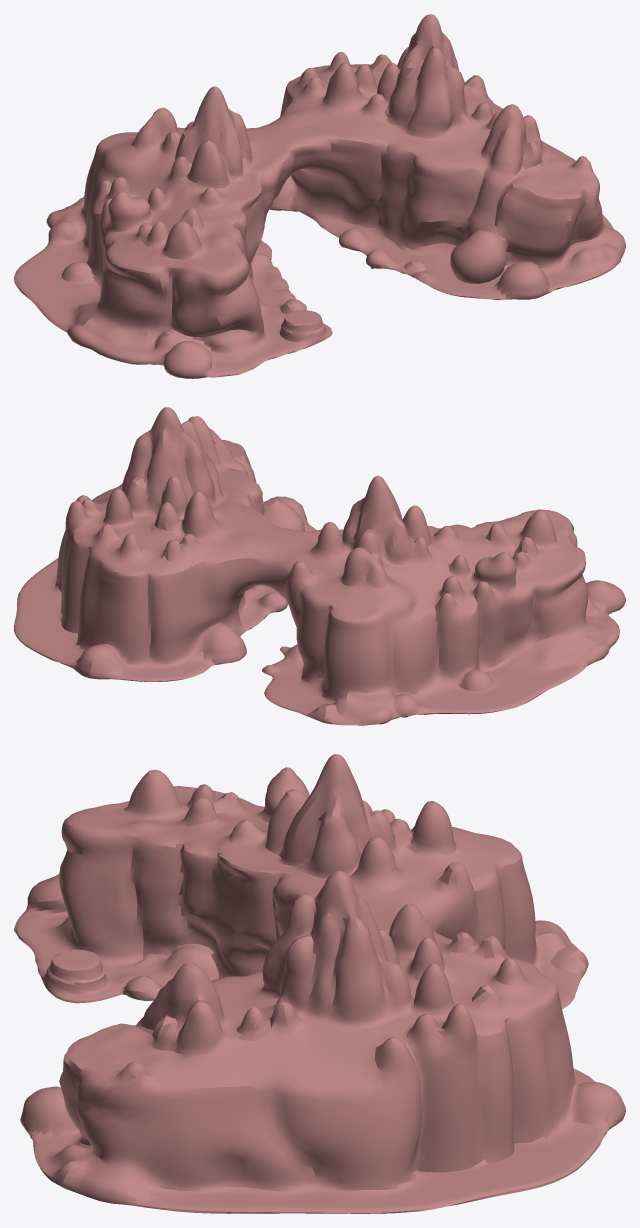
File: Col_海底拱桥.fbx
The picture shows the model from 3 angles, top to bottom: view 1: azimuth 30°, elevation 25°; view 2: azimuth 150°, elevation 25°; view 3: azimuth 270°, elevation 25°; orthographic projection. The views are drawn at different scales.
Visible parts, largest first — view 1: Mesh_Retopo_node_0_001; view 2: Mesh_Retopo_node_0_001; view 3: Mesh_Retopo_node_0_001.
Part boxes in pixels (x1,y1,x2,y2): Mesh_Retopo_node_0_001: [14, 14, 625, 378]; Mesh_Retopo_node_0_001: [14, 407, 625, 725]; Mesh_Retopo_node_0_001: [14, 754, 625, 1213].
Bounding box in the file's own units: 106 × 78.97 × 37.38.
